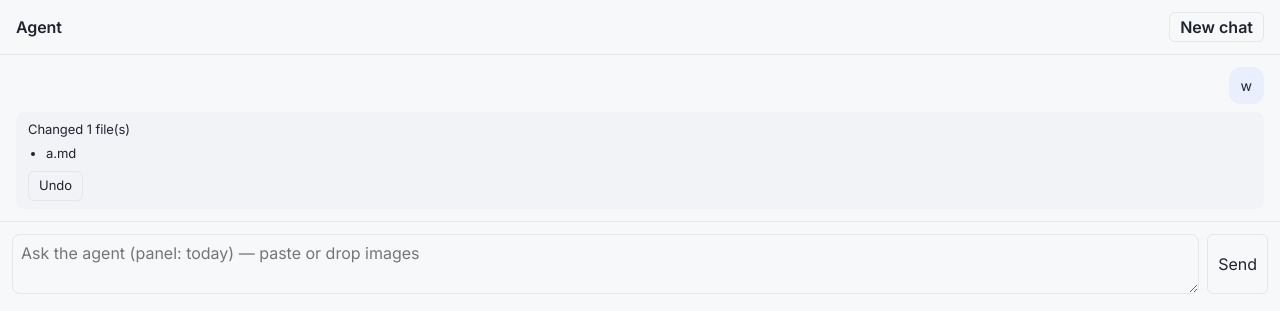
AgentChat › undo 200 marks the item undone
Earlier steps of the test are not shown.
Step 1. Click the button with aria-label "Undo this change" → click(56, 186), box [28,171,83,200]
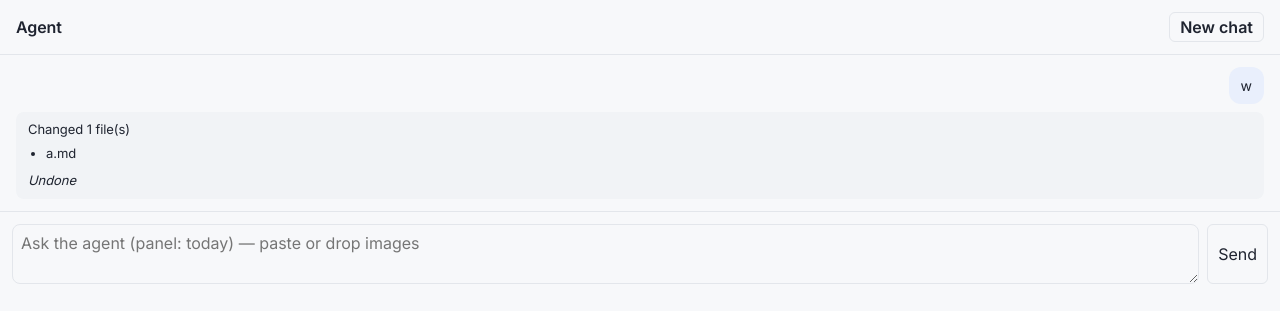
Check: the text "Undone" is shown, box [28,172,76,188]
